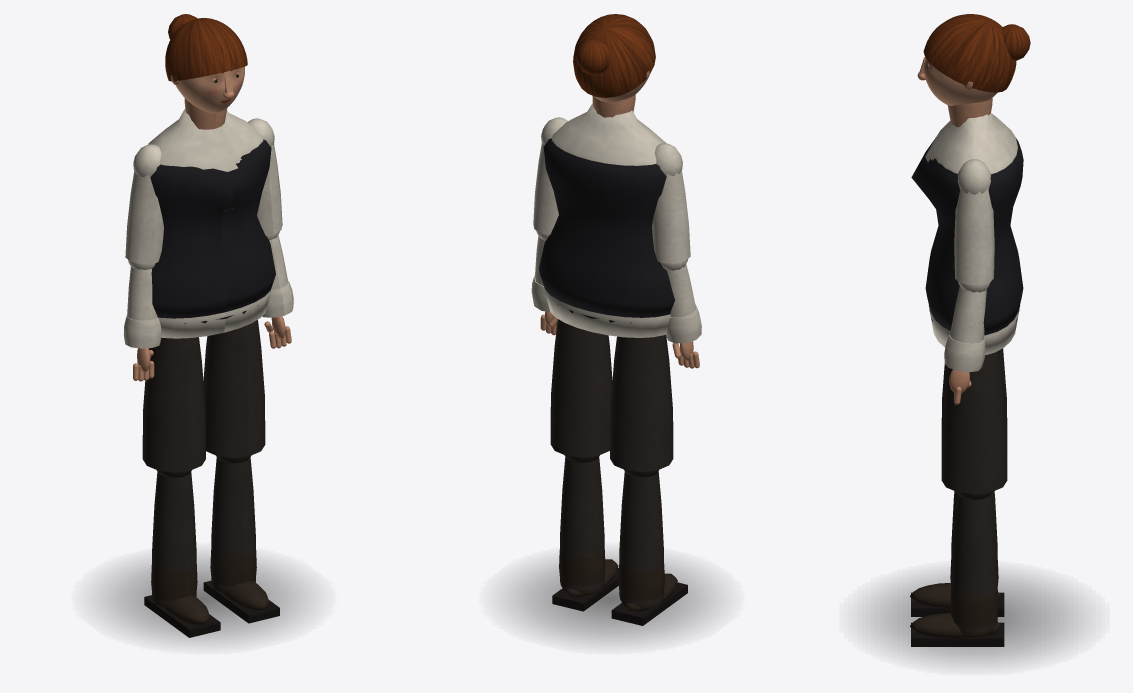
The model's file is npc_della.glb.
3 renders of one model, left to right at view 1: azimuth 30°, elevation 25°; view 2: azimuth 150°, elevation 25°; view 3: azimuth 270°, elevation 25°, orthographic. The views are drawn at different scales.
Visible parts, largest first — view 1: chest, object 11, legL, legR, shinL, shinR, head, armL, foreL, foreR, armR; view 2: chest, object 11, legL, legR, shinL, shinR, head, armL, foreL, armR, foreR; view 3: chest, object 11, shinR, legR, head, armR, foreR, shinL.
Part boxes in pixels (x1,y1,x2,y2): chest: [148, 98, 275, 338]; object 11: [97, 554, 309, 643]; legL: [142, 337, 205, 472]; legR: [203, 320, 265, 457]; shinL: [144, 470, 220, 637]; shinR: [203, 455, 279, 623]; head: [165, 14, 247, 113]; armL: [125, 144, 163, 264]; foreL: [124, 260, 161, 381]; foreR: [262, 231, 293, 348]; armR: [248, 118, 282, 235]; chest: [539, 95, 674, 337]; object 11: [506, 554, 718, 643]; legL: [610, 334, 673, 471]; legR: [550, 319, 612, 457]; shinL: [611, 469, 687, 625]; shinR: [552, 455, 618, 611]; head: [573, 14, 655, 102]; armL: [652, 143, 690, 263]; foreL: [660, 259, 701, 368]; armR: [533, 117, 567, 234]; foreR: [531, 230, 557, 335]; chest: [911, 98, 1023, 355]; object 11: [866, 573, 1082, 663]; shinR: [910, 492, 1004, 646]; legR: [941, 350, 1007, 494]; head: [917, 14, 1030, 105]; armR: [954, 159, 994, 284]; foreR: [944, 282, 990, 404]; shinL: [910, 491, 1004, 616].
Bounding box in the file's own units: 0.77 × 1.79 × 0.77.
6 materials, 5 textured.
